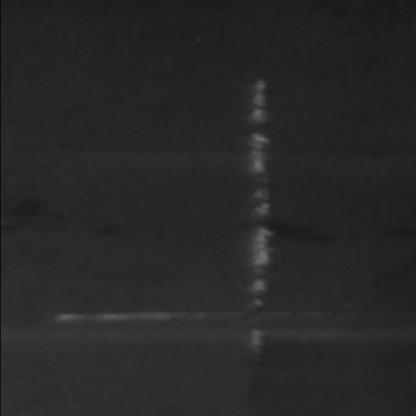scratches: (46, 295, 264, 331), (247, 74, 275, 352)
